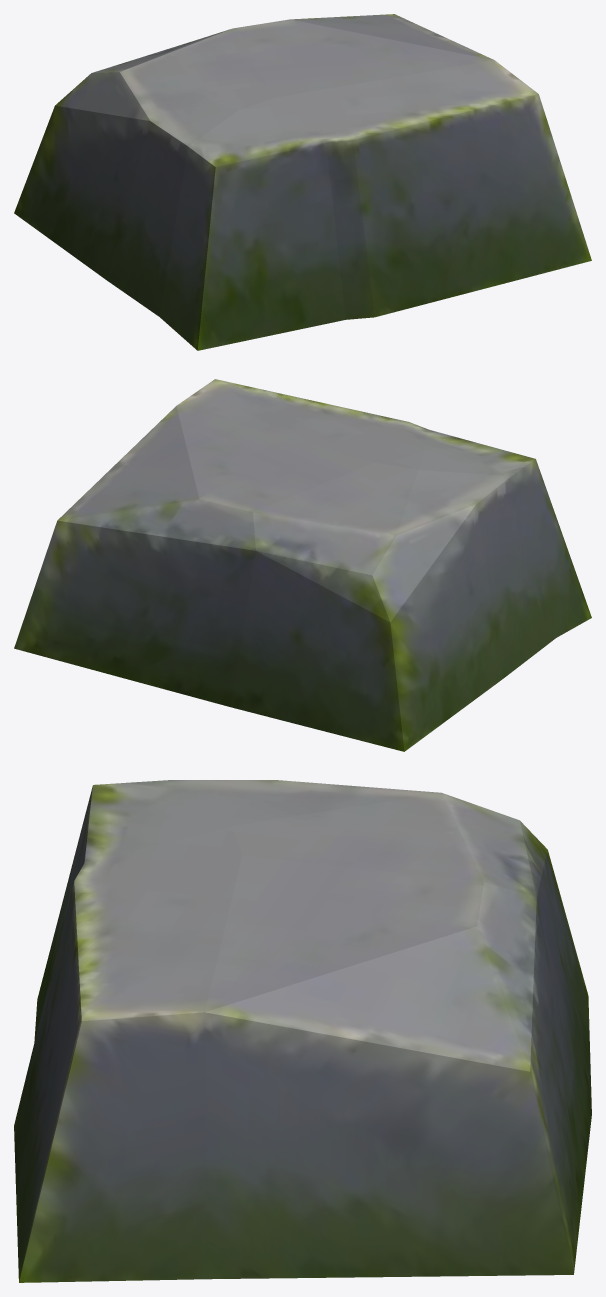
The model's file is Pebble_Square_3.gltf.
The picture shows the model from 3 angles, top to bottom: view 1: azimuth 30°, elevation 25°; view 2: azimuth 150°, elevation 25°; view 3: azimuth 270°, elevation 25°; orthographic projection. The views are drawn at different scales.
Parts seen in each view (by area): view 1: Pebble_Square_3; view 2: Pebble_Square_3; view 3: Pebble_Square_3.
Part boxes in pixels (bbox=[...]): Pebble_Square_3: bbox=[14, 14, 591, 350]; Pebble_Square_3: bbox=[14, 379, 591, 751]; Pebble_Square_3: bbox=[14, 780, 591, 1282].
Size of the model in its own units: 0.3733 by 0.1589 by 0.3187.
1 material, 1 textured.
